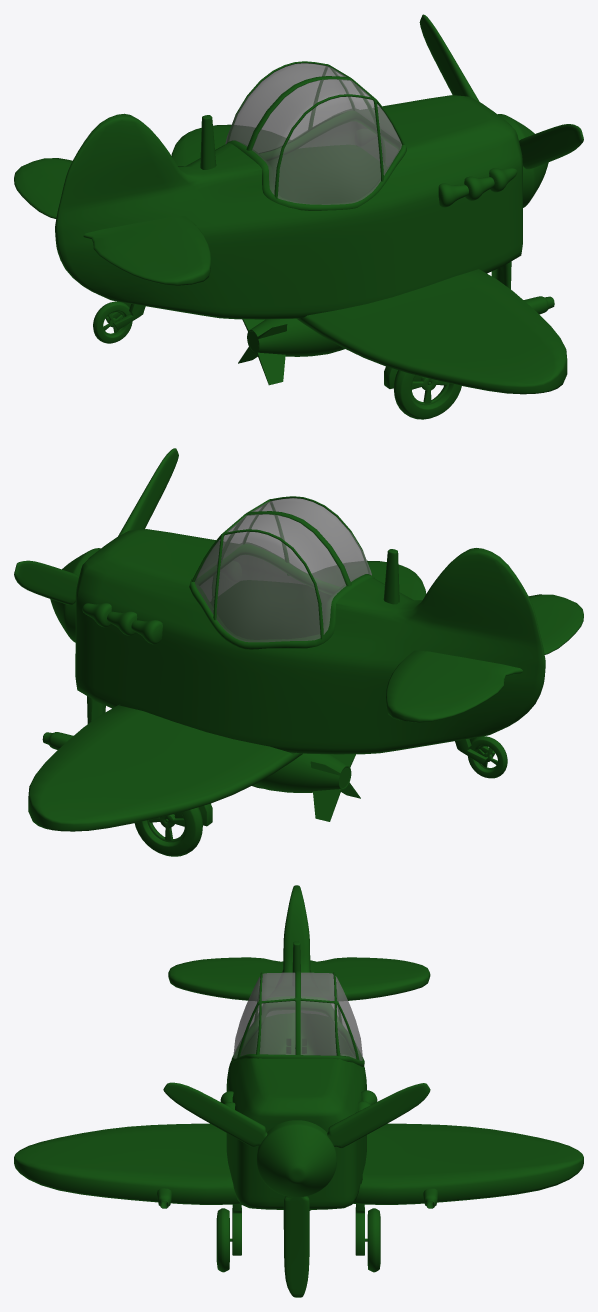
File: Spitfire.fbx
3 renders of one model, top to bottom at view 1: azimuth 30°, elevation 25°; view 2: azimuth 150°, elevation 25°; view 3: azimuth 270°, elevation 25°, orthographic. The views are drawn at different scales.
Parts seen in each view (by area): view 1: Body.001, Plane.008, Cube.004, Plane.009, Plane.010, Standard Bomb.001, Body.002, Cube.012, Circle.006, Cylinder.005, Circle.008; view 2: Body.001, Plane.008, Cube.004, Plane.009, Plane.010, Body.002, Standard Bomb.001, Cube.012, Circle.007, Cylinder.006, Circle.008; view 3: Plane.008, Body.001, Plane.010, Plane.009, Cube.004, Body.002, Cube.012, Circle.007, Circle.006.
Part boxes in pixels (x1,y1,x2,y2): Body.001: (55, 95, 522, 319); Plane.008: (171, 124, 567, 394); Cube.004: (225, 63, 401, 204); Plane.009: (14, 158, 210, 285); Plane.010: (419, 14, 583, 289); Standard Bomb.001: (238, 318, 344, 385); Body.002: (227, 109, 406, 210); Cube.012: (227, 61, 404, 198); Circle.006: (384, 366, 461, 419); Cylinder.005: (438, 168, 517, 207); Circle.008: (93, 301, 145, 343); Body.001: (75, 529, 545, 754); Plane.008: (28, 560, 425, 831); Cube.004: (194, 498, 371, 642); Plane.009: (386, 594, 583, 722); Plane.010: (14, 448, 178, 723); Body.002: (189, 543, 374, 649); Standard Bomb.001: (253, 753, 360, 821); Cube.012: (192, 496, 370, 639); Circle.007: (134, 803, 212, 856); Cylinder.006: (82, 603, 162, 644); Circle.008: (455, 736, 507, 778); Plane.008: (14, 1123, 583, 1204); Body.001: (226, 885, 366, 1209); Plane.010: (163, 1082, 430, 1297); Plane.009: (168, 957, 430, 1000); Cube.004: (233, 972, 362, 1060); Body.002: (231, 995, 364, 1066); Cube.012: (237, 971, 359, 1059); Circle.007: (355, 1179, 380, 1272); Circle.006: (216, 1204, 241, 1272).
Bounding box in the file's own units: 179 × 117 × 221.
